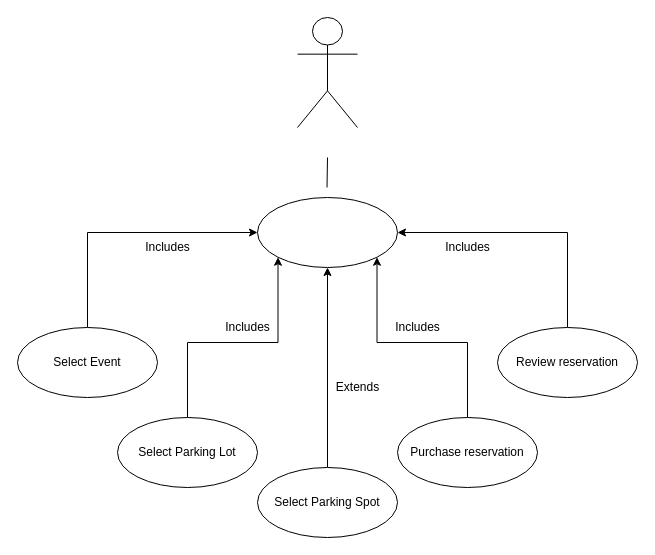
Some shapes in this 655 by 555 pixel diagram are drawn without their labels. Here are the shapes that lost their labels. From the top down, the box of each, then its label:
(296, 16, 358, 128): Customer
(256, 196, 398, 268): Reserve parking spot
